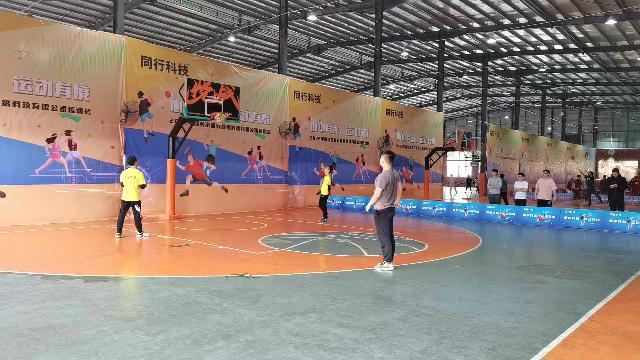goal: (216, 113, 224, 121)
